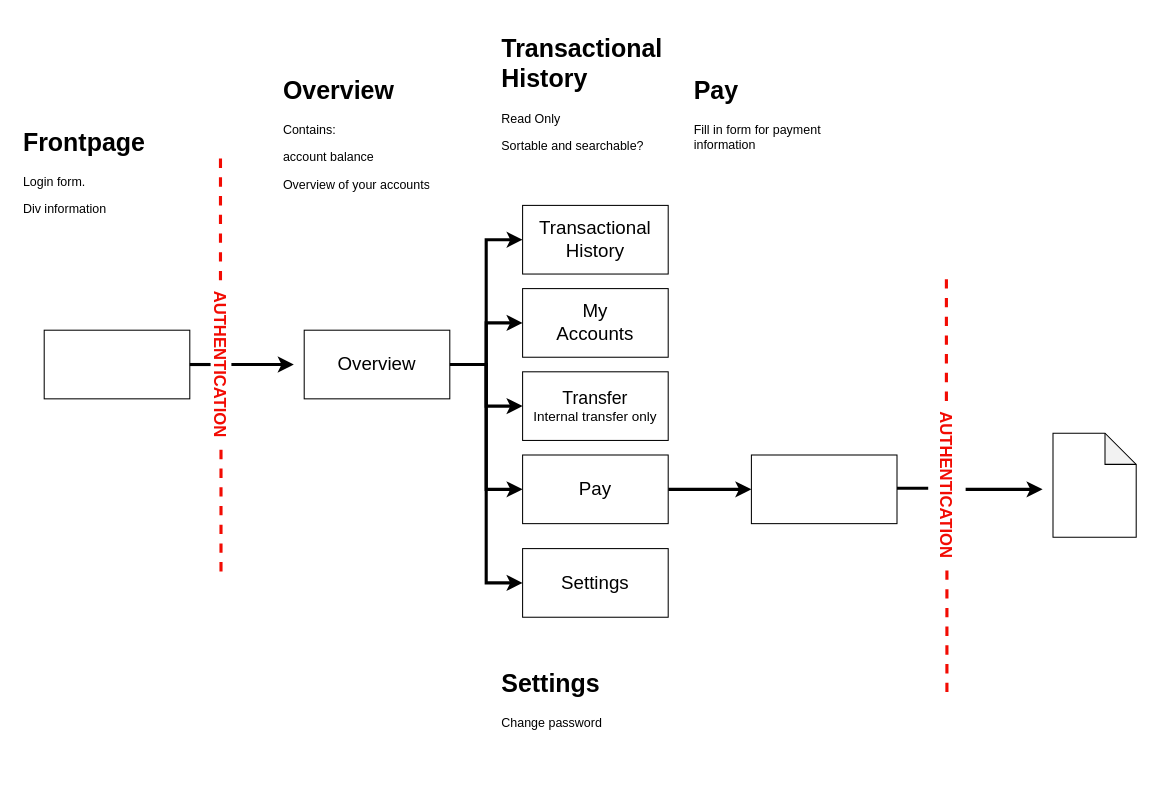
This 1154x805 diagram has some shape labels left out. Here are the shapes that lost their labels. From the top down, the centre of each, then its label:
At (116,364): "Frontpage".
At (823,489): "Summary".
At (1094,484): "Transaction Completed".
